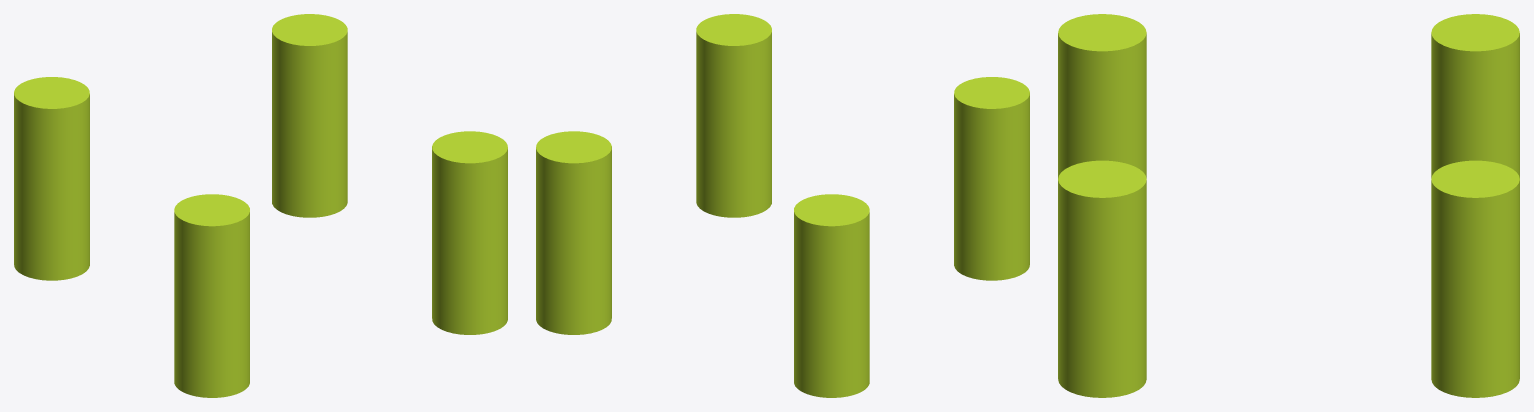
Rendered from FlightControlSeparators_x8.glb.
3 renders of one model, left to right at view 1: azimuth 30°, elevation 25°; view 2: azimuth 150°, elevation 25°; view 3: azimuth 270°, elevation 25°, orthographic. The views are drawn at different scales.
Visible parts, largest first — view 1: FlightControlSeparators_x8; view 2: FlightControlSeparators_x8; view 3: FlightControlSeparators_x8.
Part boxes in pixels (bbox=[...]): FlightControlSeparators_x8: bbox=[14, 14, 507, 397]; FlightControlSeparators_x8: bbox=[536, 14, 1029, 397]; FlightControlSeparators_x8: bbox=[1058, 14, 1519, 397].
Bounding box in the file's own units: 0.0271 × 0.0137 × 0.0287.
